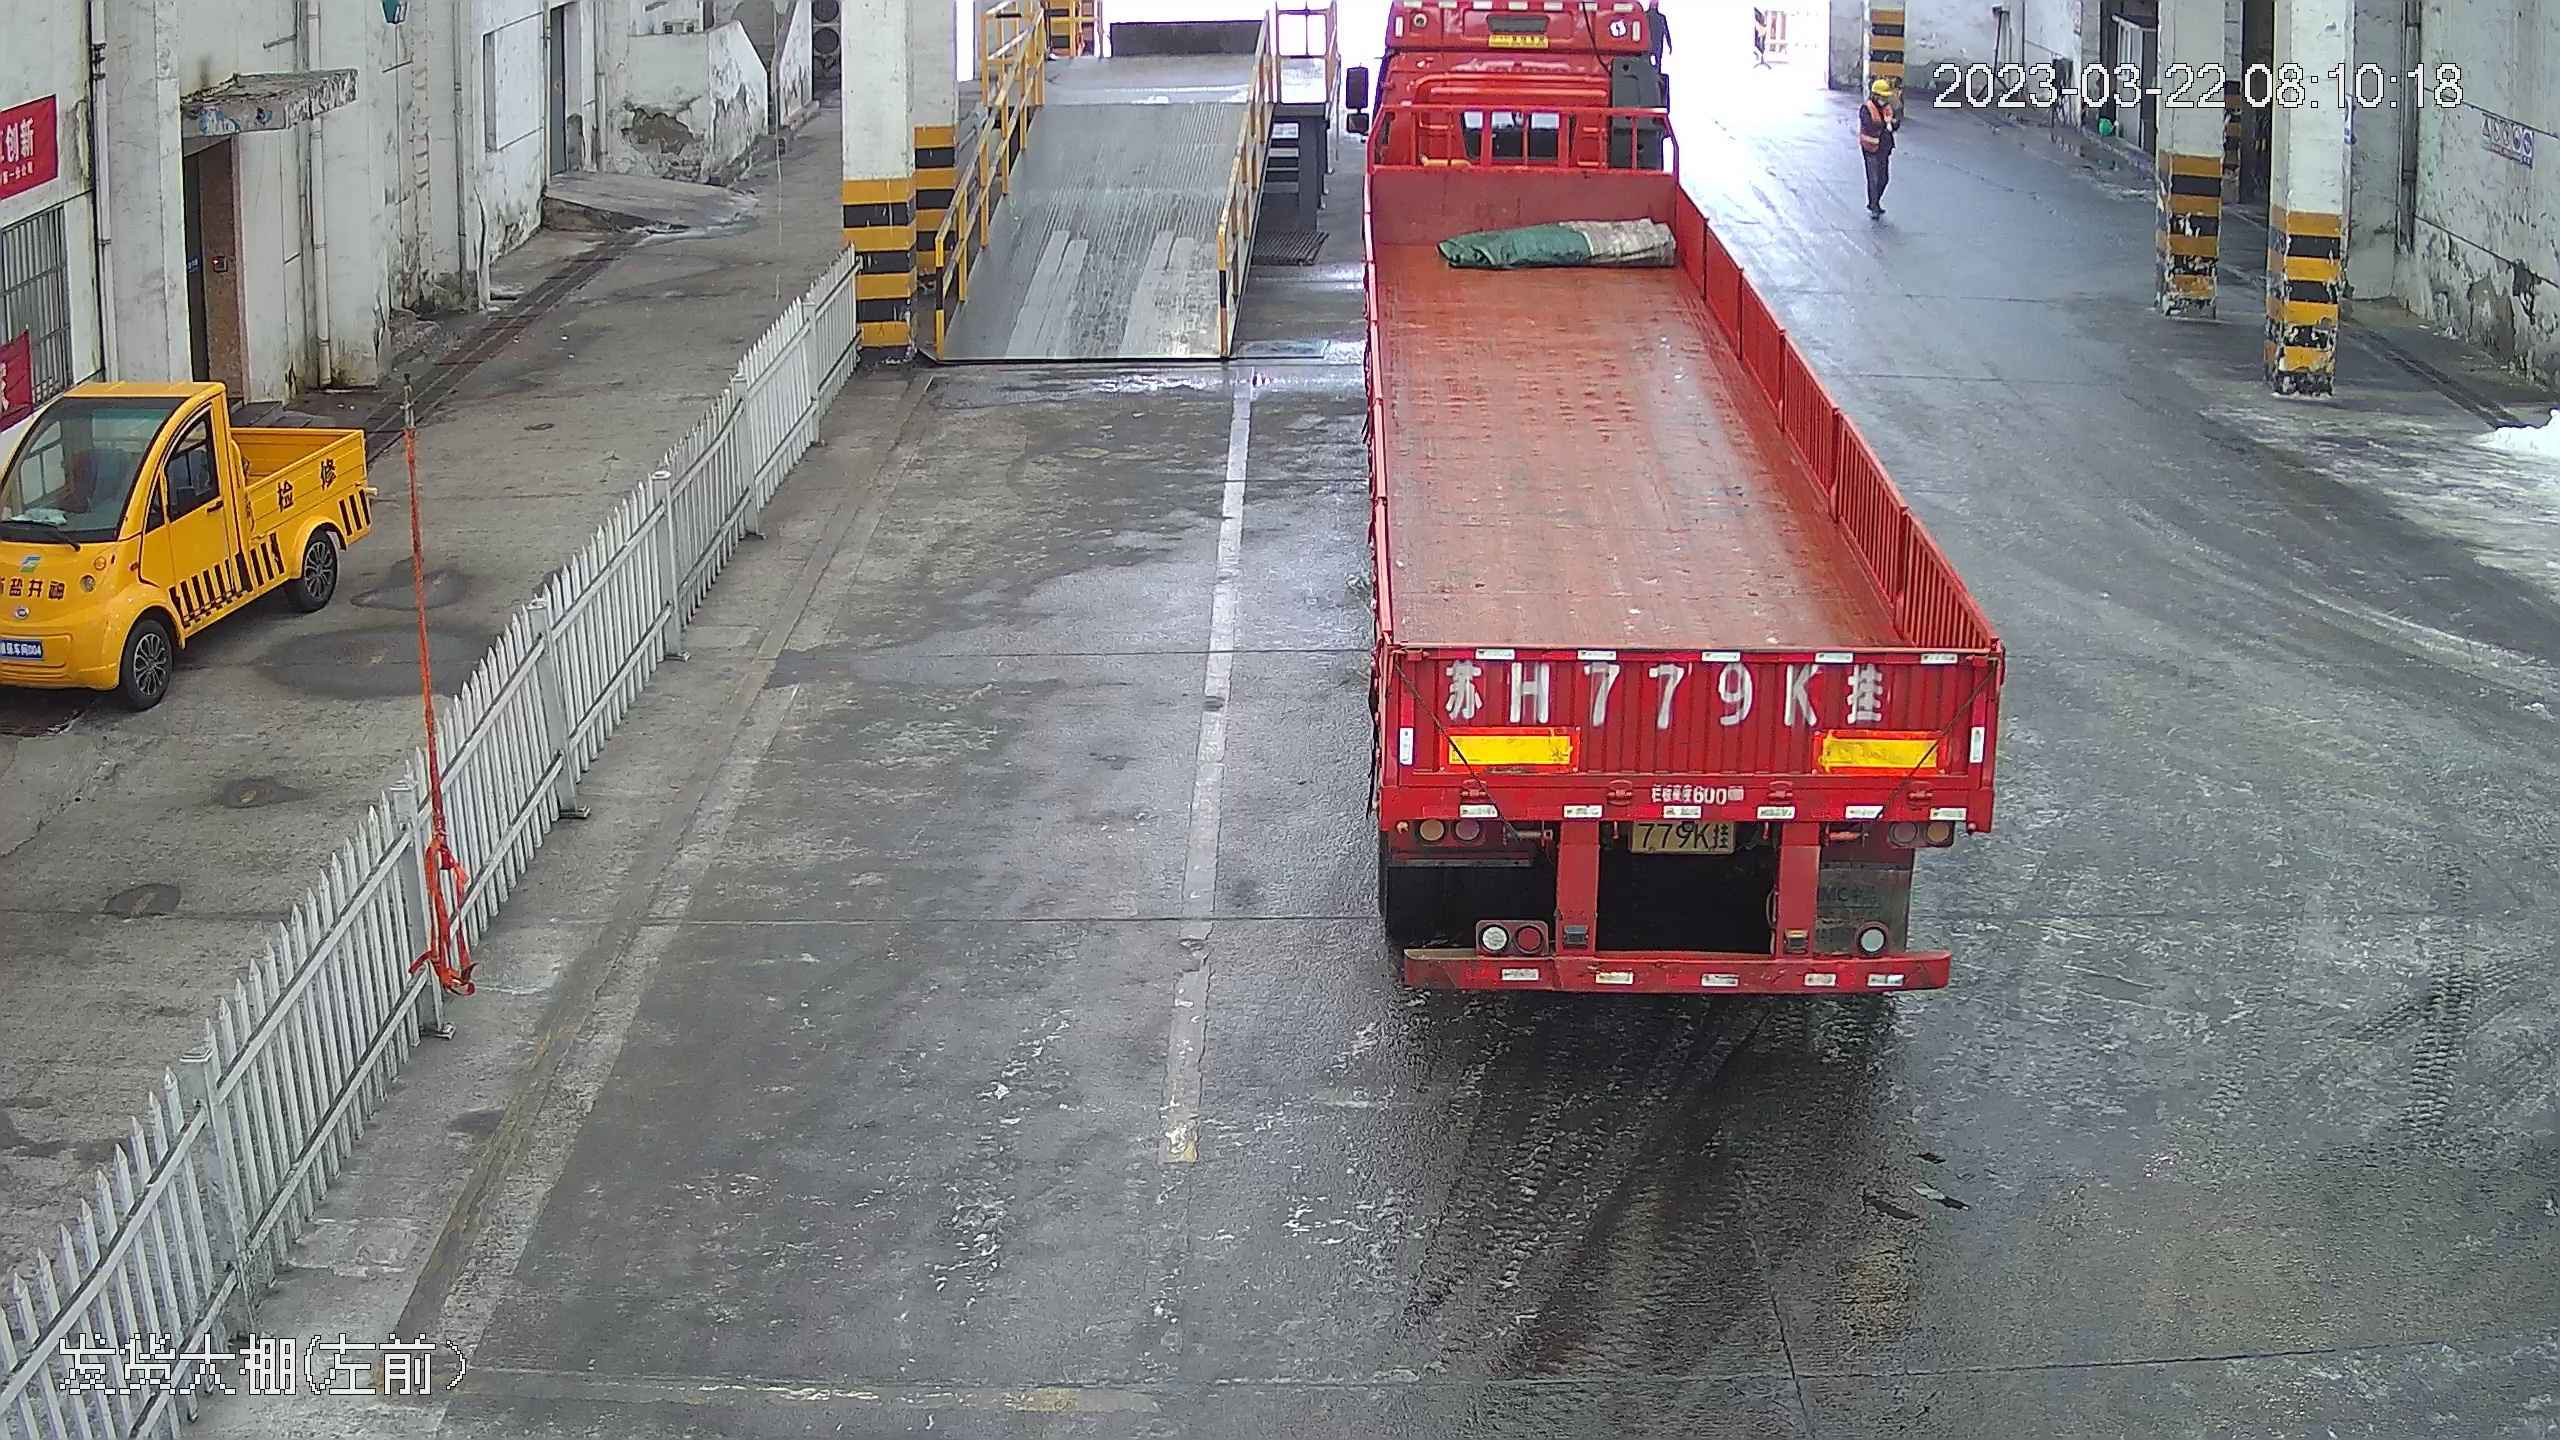head: (1862, 74, 1904, 120)
helmet: (1872, 75, 1896, 96)
people: (1855, 73, 1908, 223)
truck: (1339, 0, 2034, 1002)
